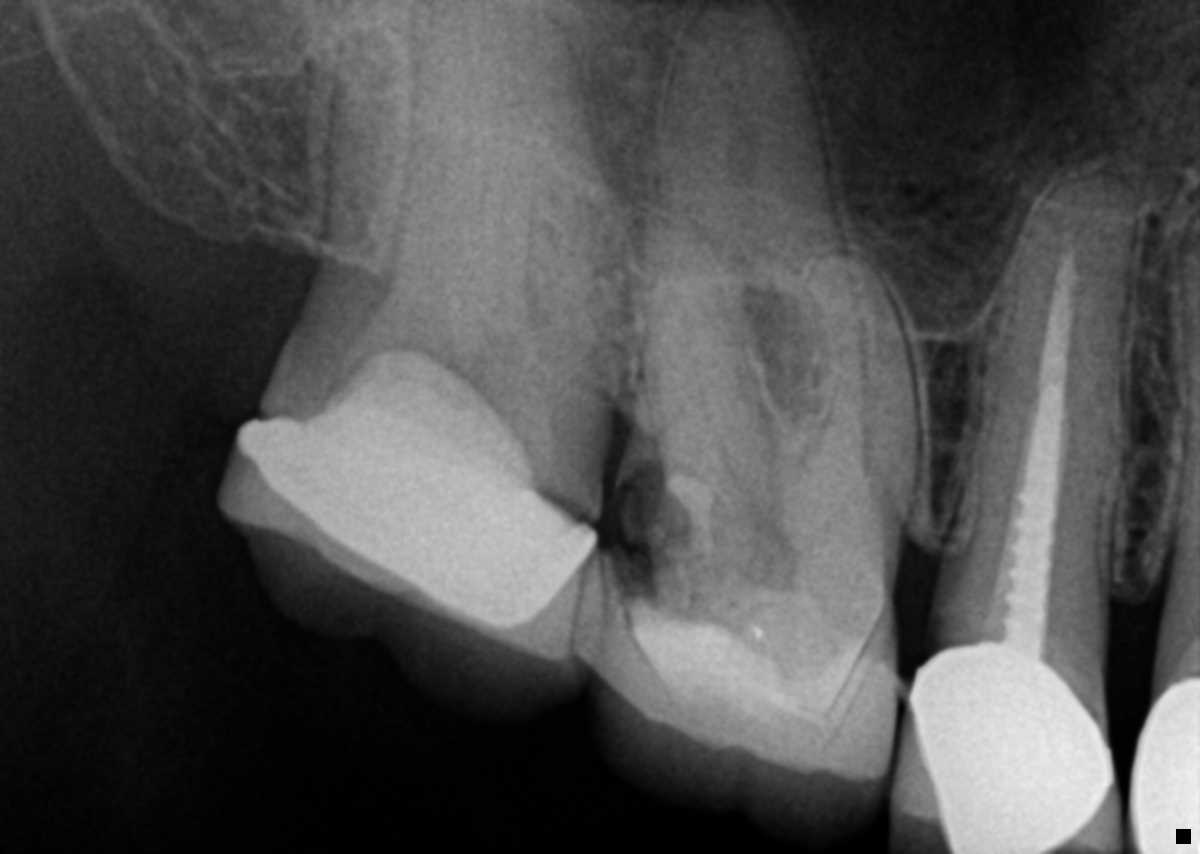Distal Canal: (676, 309, 735, 497)
Distal Root: (320, 0, 554, 319), (636, 217, 779, 499)
Main Root: (1155, 200, 1200, 593)
Mesial Canal: (790, 281, 882, 553)
Mesial Root: (356, 0, 623, 404), (934, 169, 1136, 659), (800, 254, 923, 538)
Palatal Root: (639, 0, 879, 536)
Root Canal Filling: (1038, 256, 1074, 383)
decay: (607, 464, 723, 611)
